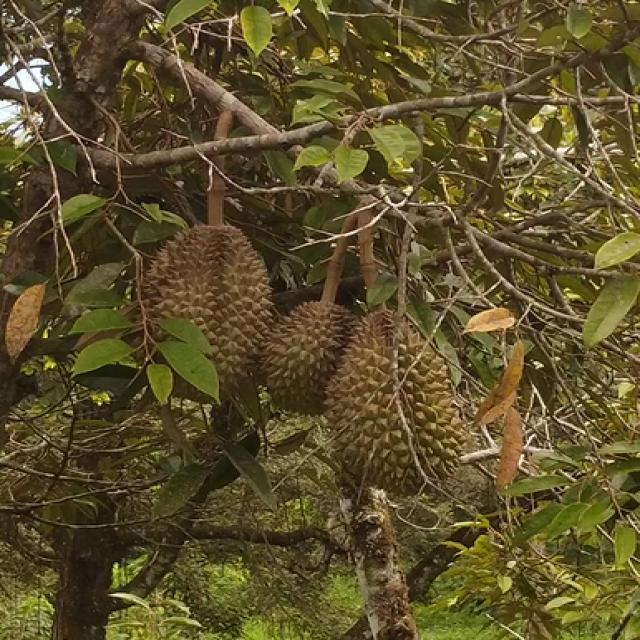mature: (141, 225, 275, 398)
